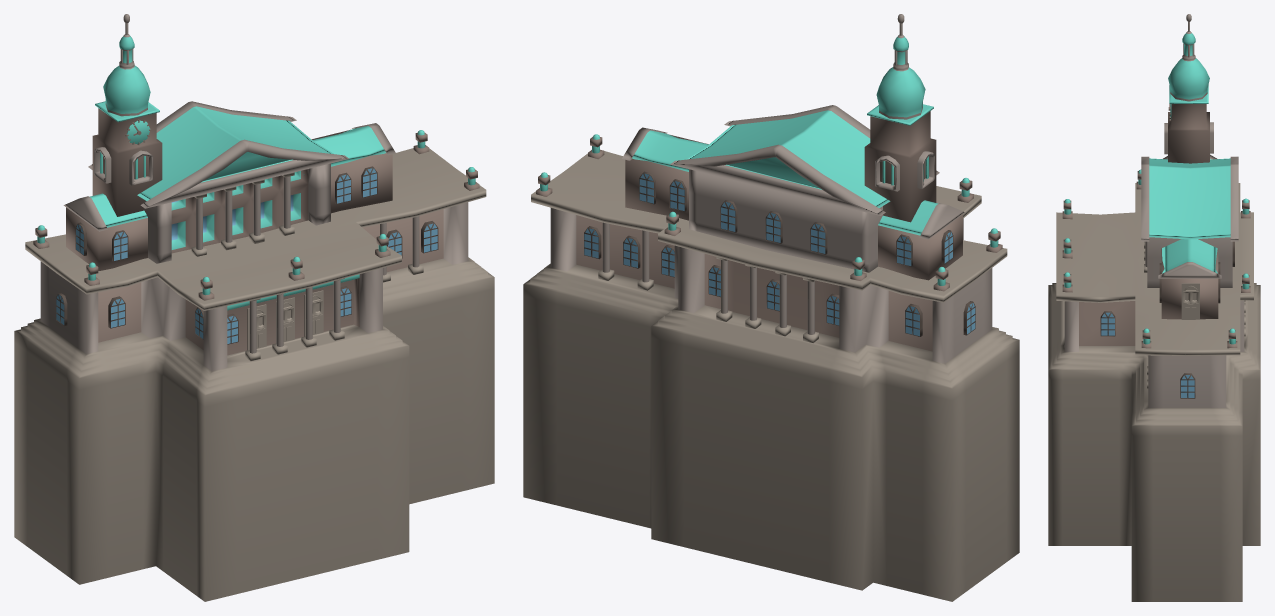
File: Town_Hall.fbx
The picture shows the model from 3 angles, left to right: view 1: azimuth 30°, elevation 25°; view 2: azimuth 150°, elevation 25°; view 3: azimuth 270°, elevation 25°; orthographic projection. The views are drawn at different scales.
Parts seen in each view (by area): view 1: Town_Hall; view 2: Town_Hall; view 3: Town_Hall.
Boxes of the visible parts, box(x1,y1,x2,y2) form: Town_Hall: box(14, 14, 494, 601); Town_Hall: box(523, 14, 1019, 601); Town_Hall: box(1048, 14, 1260, 601).
Size of the model in its own units: 1988 by 2407 by 1032.
1 material, 1 textured.
